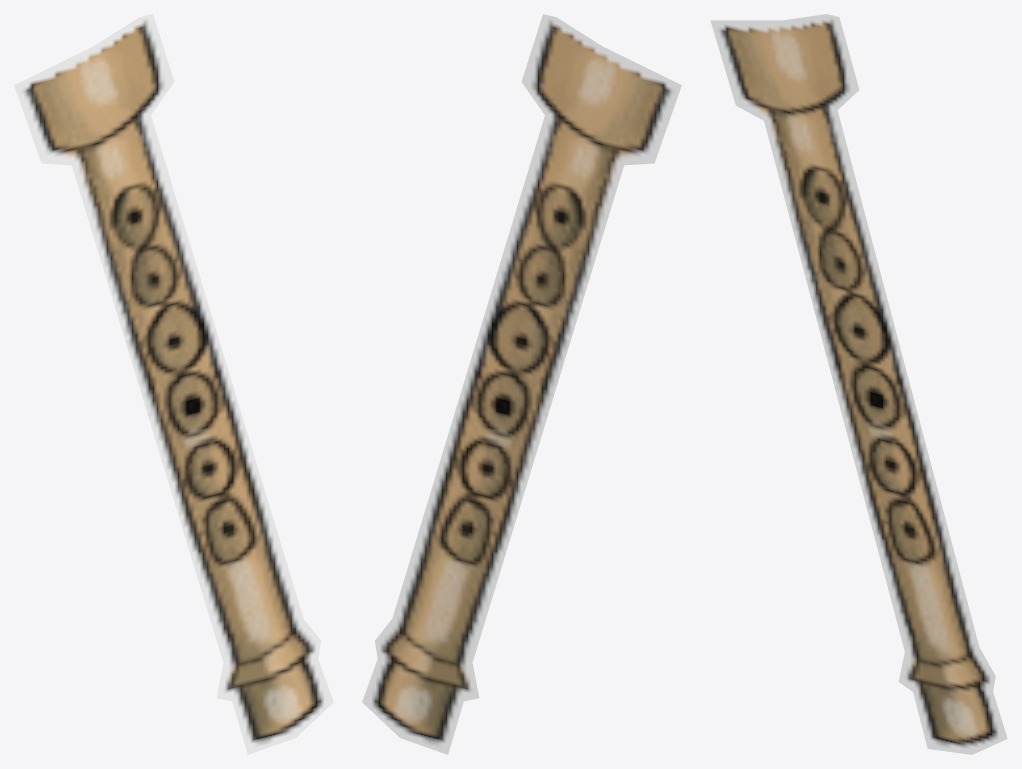
3 renders of one model, left to right at view 1: azimuth 30°, elevation 25°; view 2: azimuth 150°, elevation 25°; view 3: azimuth 330°, elevation 25°, orthographic. The views are drawn at different scales.
Visible parts, largest first — view 1: Plane; view 2: Plane; view 3: Plane.
Boxes of the visible parts, <box> form: Plane: <box>14,14,333,754</box>; Plane: <box>362,14,681,754</box>; Plane: <box>710,14,1007,754</box>.
Size of the model in its own units: 1.15 by 2.62 by 0.
1 material, 1 textured.
